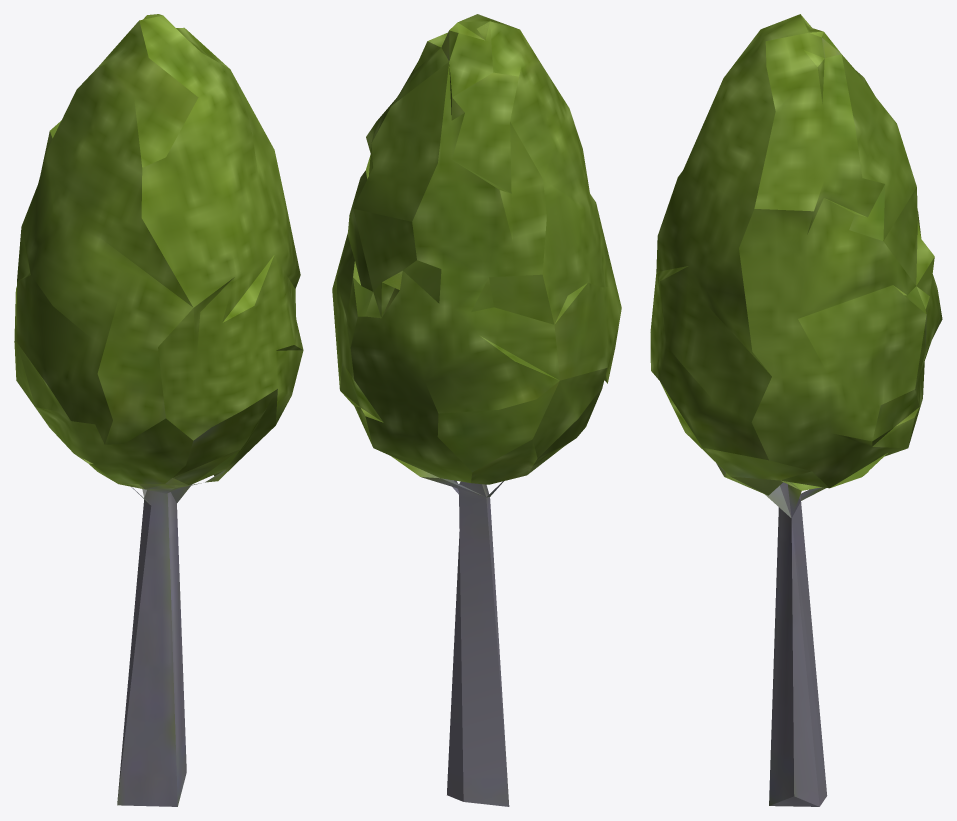
The model's file is tree_beech.lod3.glb.
3 views of the same model, side by side, from view 1: azimuth 30°, elevation 25°; view 2: azimuth 150°, elevation 25°; view 3: azimuth 270°, elevation 25° (orthographic).
Visible parts, largest first — view 1: tree_beech.lod3_uv; view 2: tree_beech.lod3_uv; view 3: tree_beech.lod3_uv.
Part boxes in pixels (box(x1,y1,x2,y2)): tree_beech.lod3_uv: box(14, 14, 303, 806); tree_beech.lod3_uv: box(332, 14, 621, 806); tree_beech.lod3_uv: box(650, 14, 942, 806).
Size of the model in its own units: 0.6164 by 1.86 by 0.6309.
Materials: 1 (1 with a texture image).
